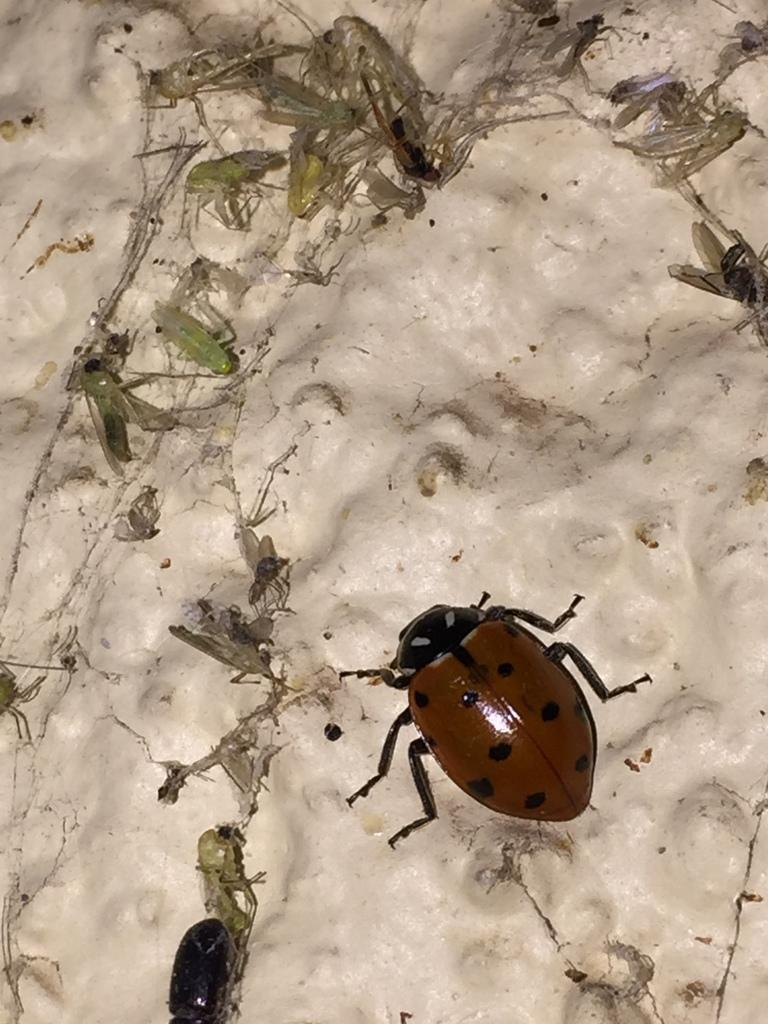ladybug: (339, 591, 659, 854)
